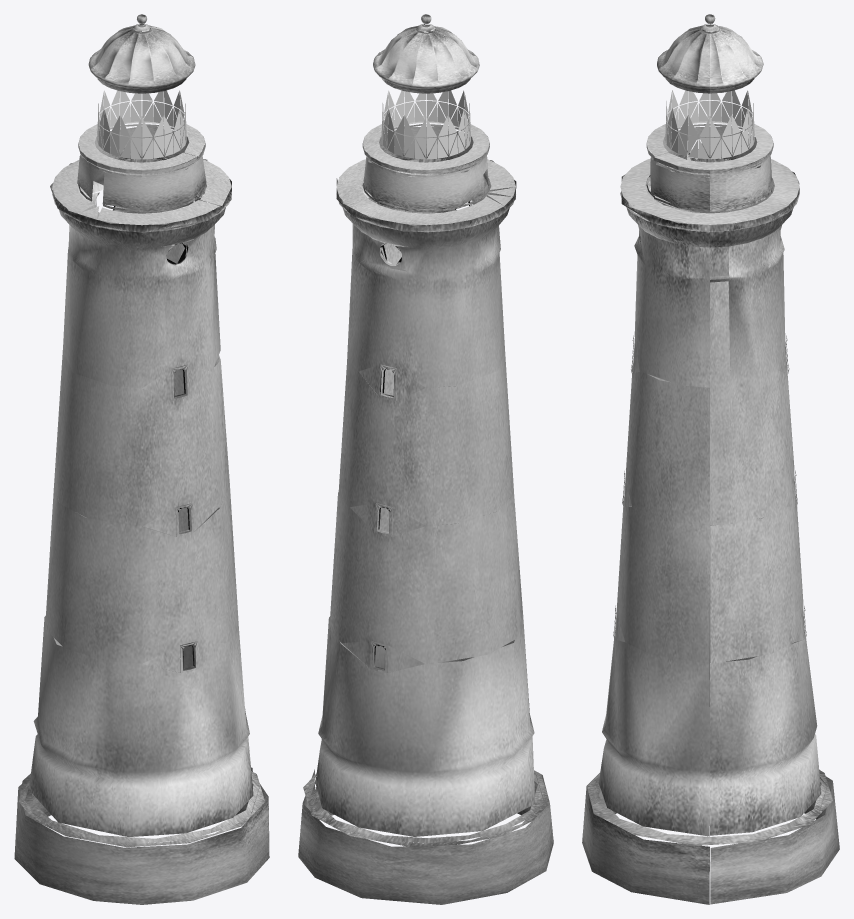
The model's file is light_house.glb.
3 renders of one model, left to right at view 1: azimuth 30°, elevation 25°; view 2: azimuth 150°, elevation 25°; view 3: azimuth 270°, elevation 25°, orthographic.
Parts seen in each view (by area): view 1: Object001_02 - Default_0, Object003_02 - Default_0, Object004_02 - Default_0, Object__0; view 2: Object001_02 - Default_0, Object003_02 - Default_0, Object004_02 - Default_0, Object__0; view 3: Object001_02 - Default_0, Object003_02 - Default_0, Object004_02 - Default_0, Object__0.
Part boxes in pixels (x1,y1,x2,y2): Object001_02 - Default_0: [14, 122, 269, 904]; Object003_02 - Default_0: [19, 116, 265, 847]; Object004_02 - Default_0: [88, 25, 195, 93]; Object__0: [97, 90, 186, 159]; Object001_02 - Default_0: [298, 121, 553, 904]; Object003_02 - Default_0: [303, 116, 549, 847]; Object004_02 - Default_0: [373, 25, 479, 93]; Object__0: [381, 90, 470, 159]; Object001_02 - Default_0: [582, 122, 839, 904]; Object003_02 - Default_0: [587, 116, 832, 845]; Object004_02 - Default_0: [657, 25, 763, 93]; Object__0: [665, 90, 754, 159].
Bounding box in the file's own units: 27.57 × 97.55 × 27.34.
2 materials, 1 textured.
